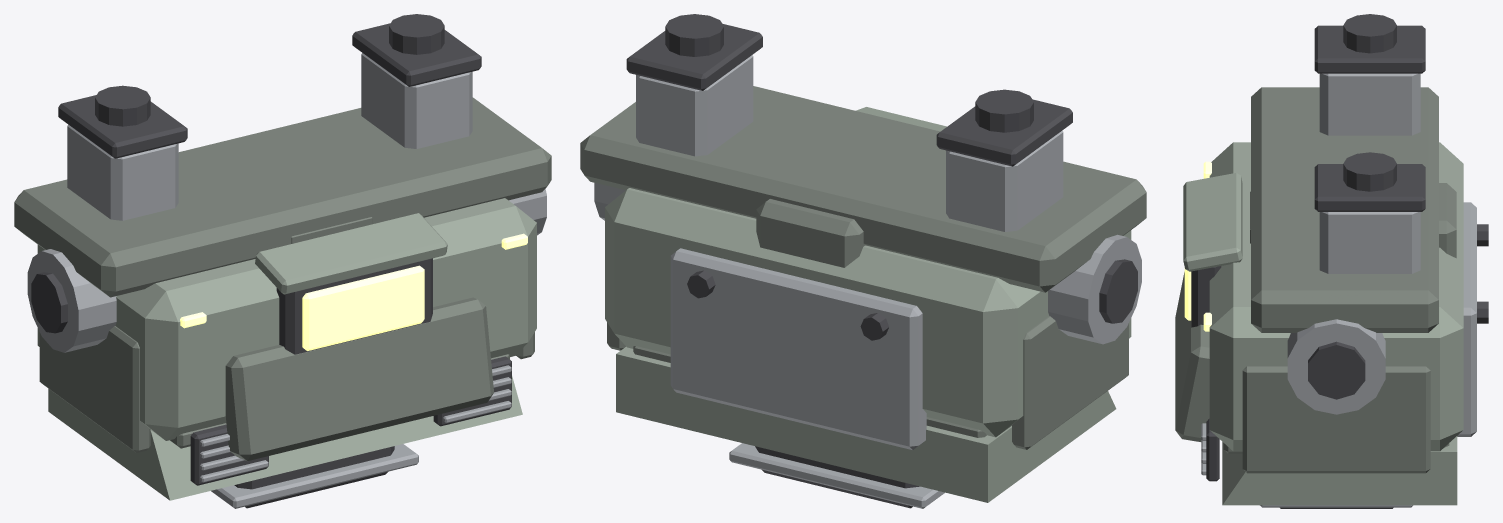
Rendered from heavy-torso.glb.
3 renders of one model, left to right at view 1: azimuth 30°, elevation 25°; view 2: azimuth 150°, elevation 25°; view 3: azimuth 270°, elevation 25°, orthographic. The views are drawn at different scales.
Parts seen in each view (by area): view 1: torso; view 2: torso; view 3: torso.
Boxes of the visible parts, box(x1,y1,x2,y2) form: torso: box(14, 14, 551, 508); torso: box(580, 14, 1146, 508); torso: box(1175, 14, 1488, 508).
Bounding box in the file's own units: 3.2 × 2.51 × 1.87.
